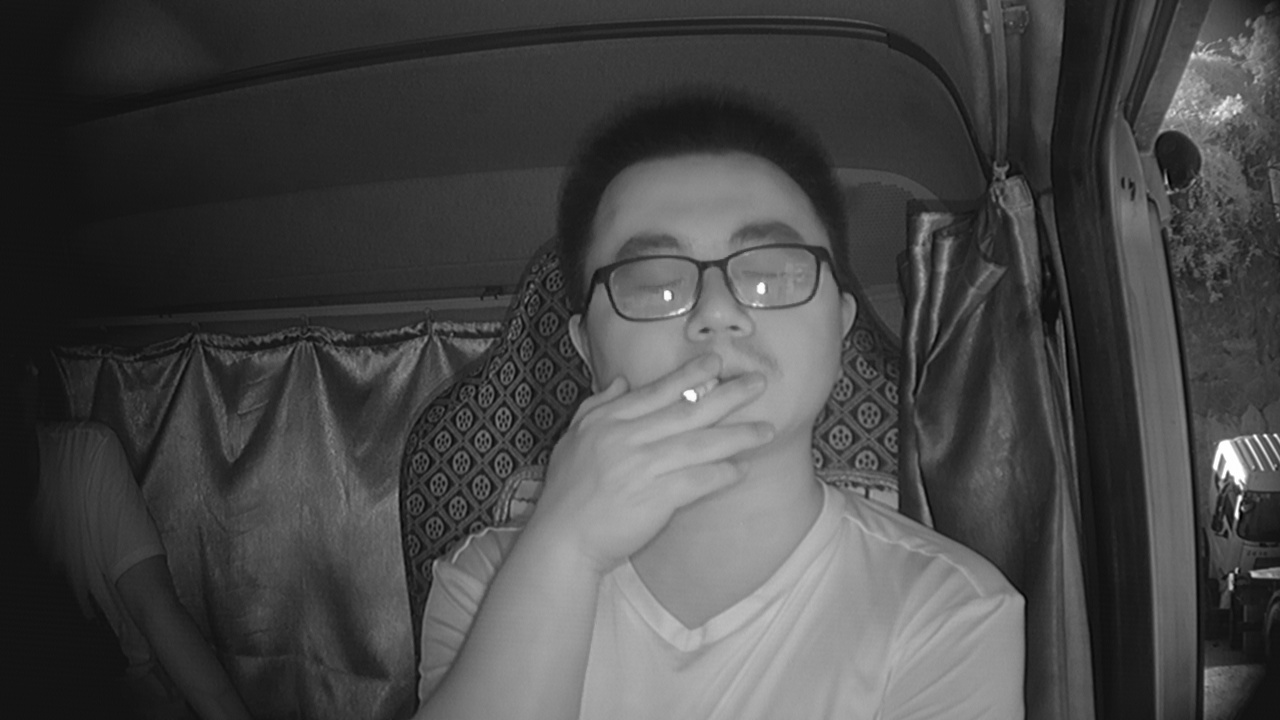hand: (554, 355, 774, 529)
